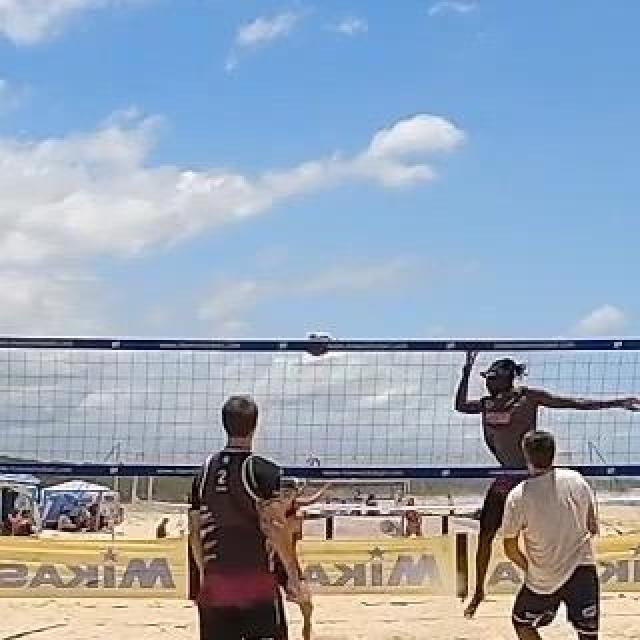volleyball: (305, 331, 331, 359)
